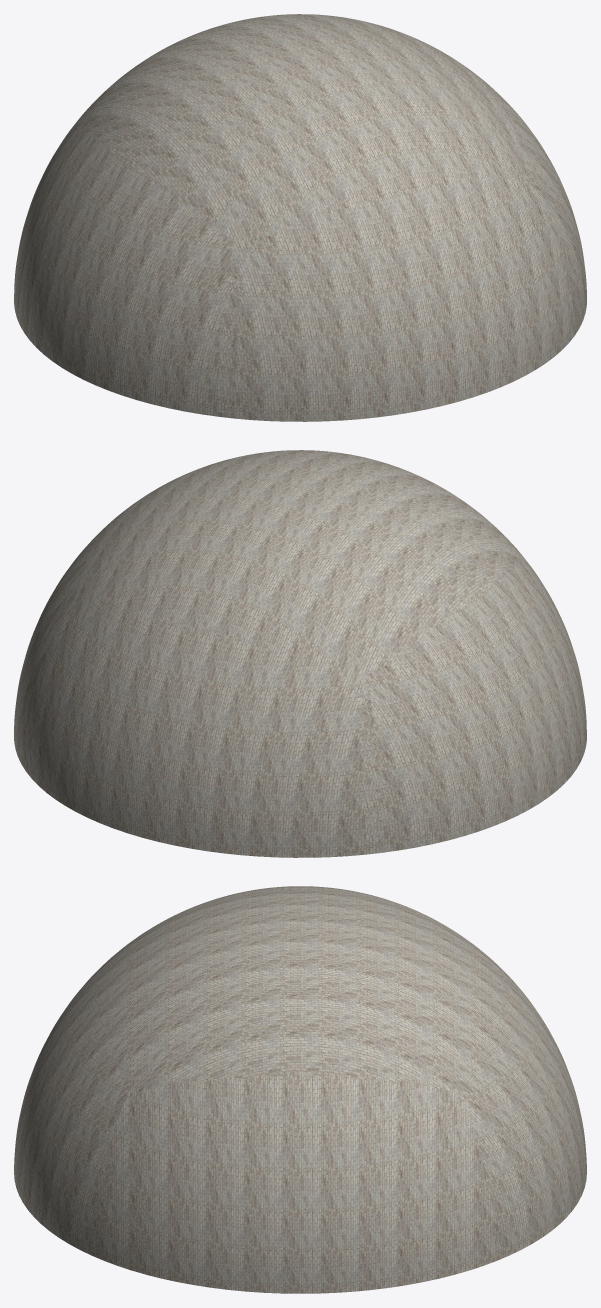
The model's file is OutDome.fbx.
3 renders of one model, top to bottom at view 1: azimuth 30°, elevation 25°; view 2: azimuth 150°, elevation 25°; view 3: azimuth 270°, elevation 25°, orthographic.
Visible parts, largest first — view 1: OutDome; view 2: OutDome; view 3: OutDome.
Boxes of the visible parts, x1=… form: OutDome: x1=14, y1=14, x2=586, y2=421; OutDome: x1=14, y1=450, x2=586, y2=857; OutDome: x1=14, y1=886, x2=586, y2=1293.
Bounding box in the file's own units: 5892 × 2946 × 5892.
